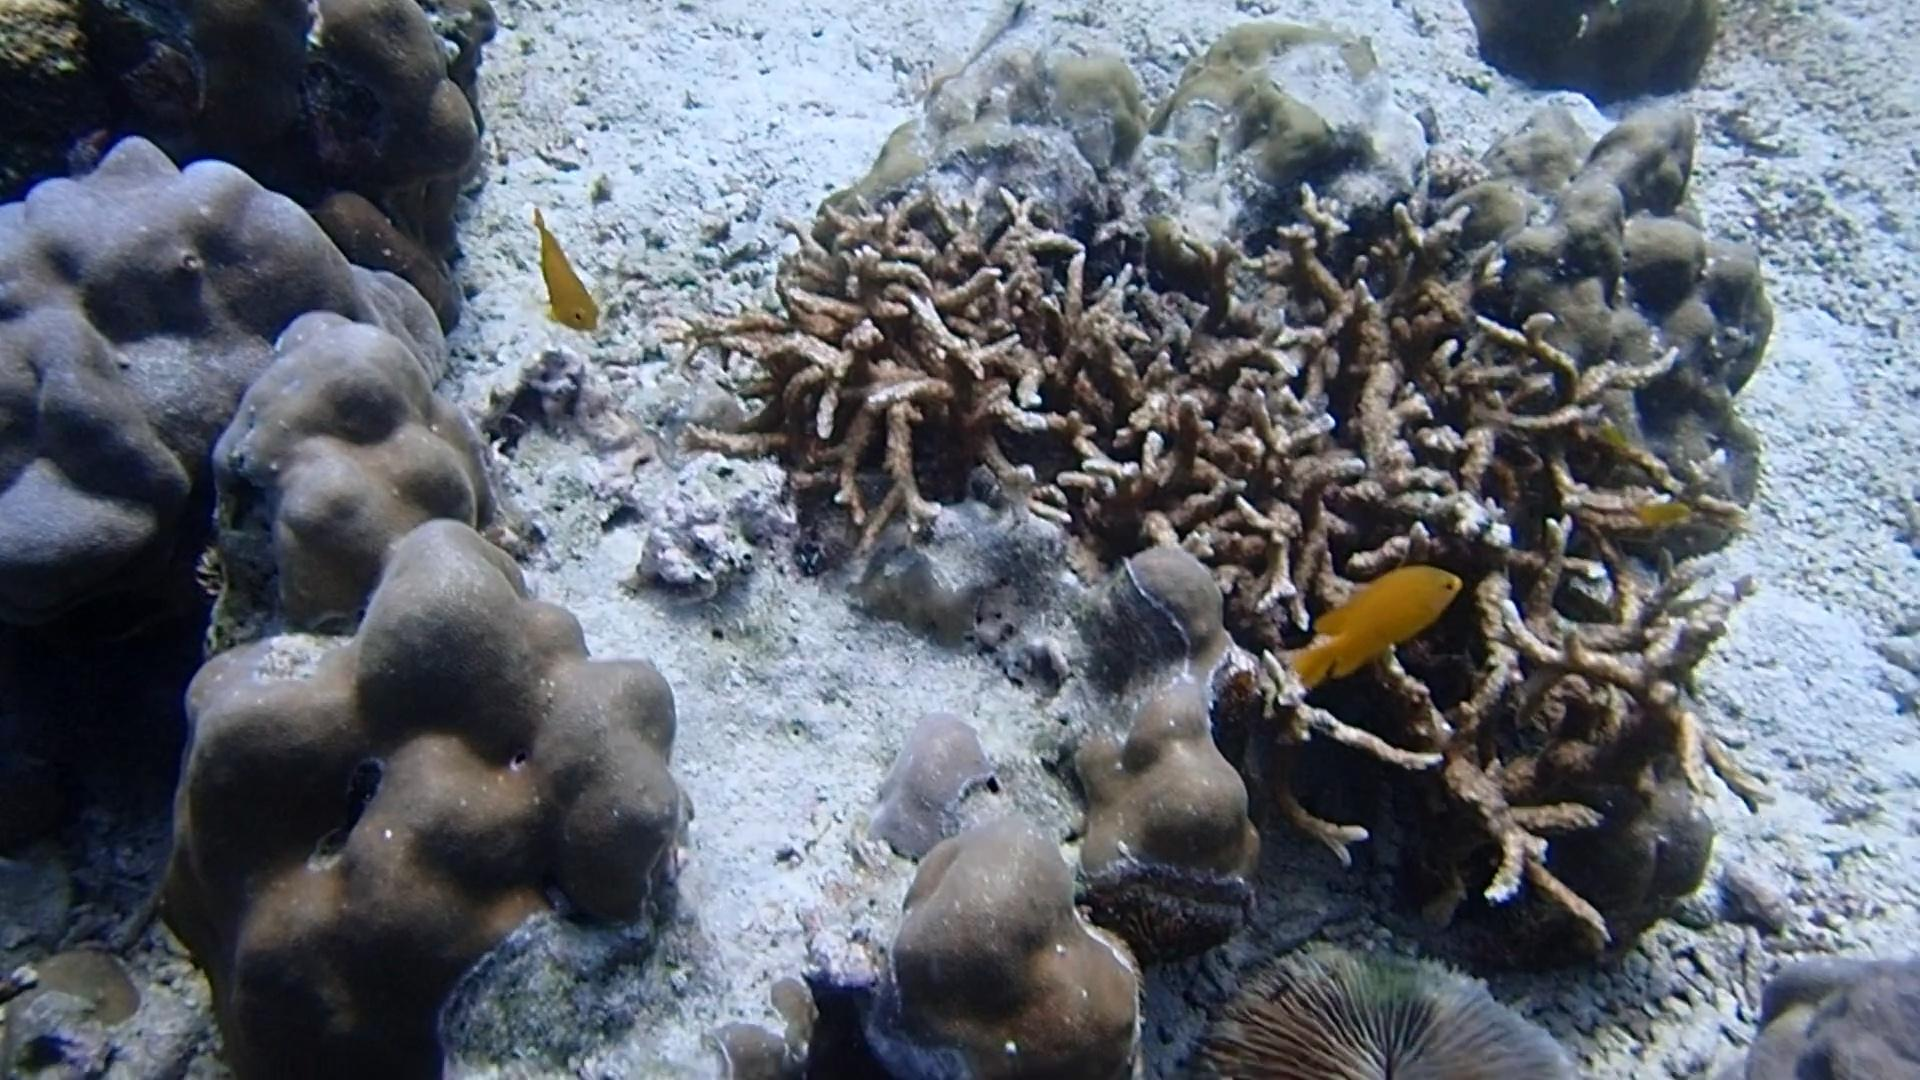Yellow Fish: (1288, 558, 1466, 684), (521, 199, 615, 344), (1629, 488, 1696, 541)
